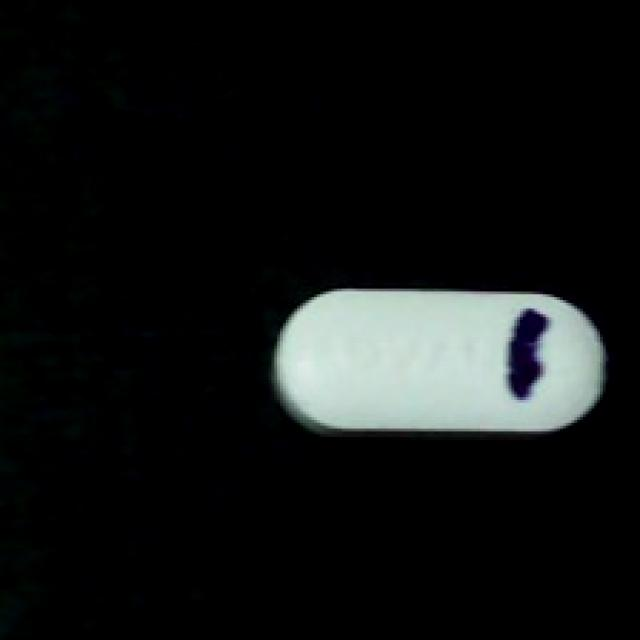defected: (271, 274, 617, 443)
